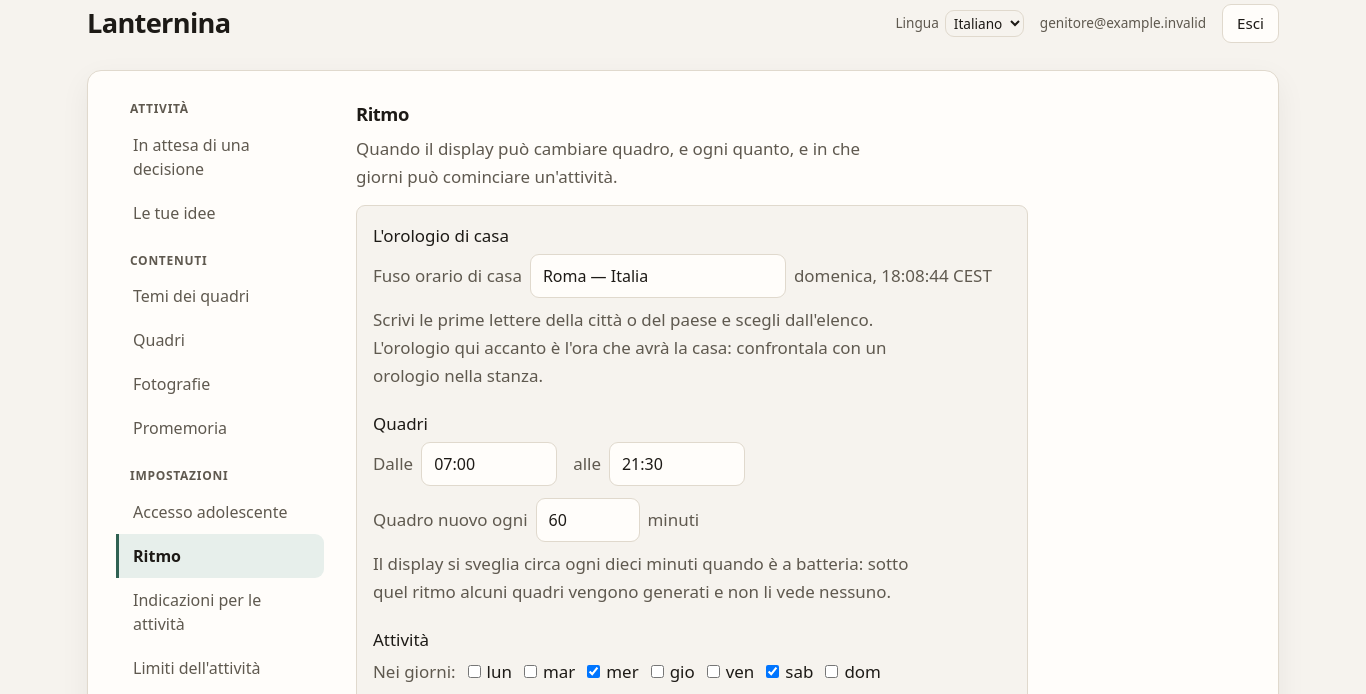
the rhythm › puts the same value back and asks the house for nothing
Click the button "Ritmo" at {"x": 220, "y": 556}, box [116,534,324,578]
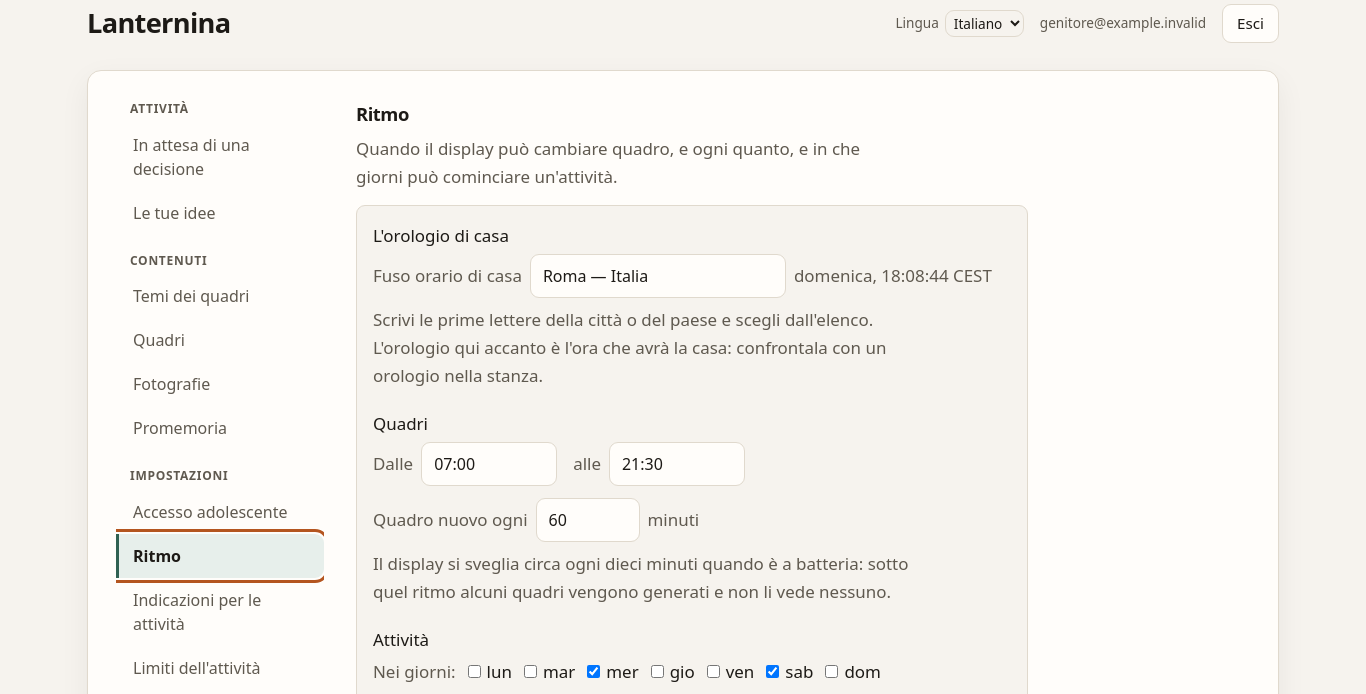
Replace the text in the number field labelled "Quadro nuovo ogni" with "90" at {"x": 588, "y": 520}, box [536,498,640,542]
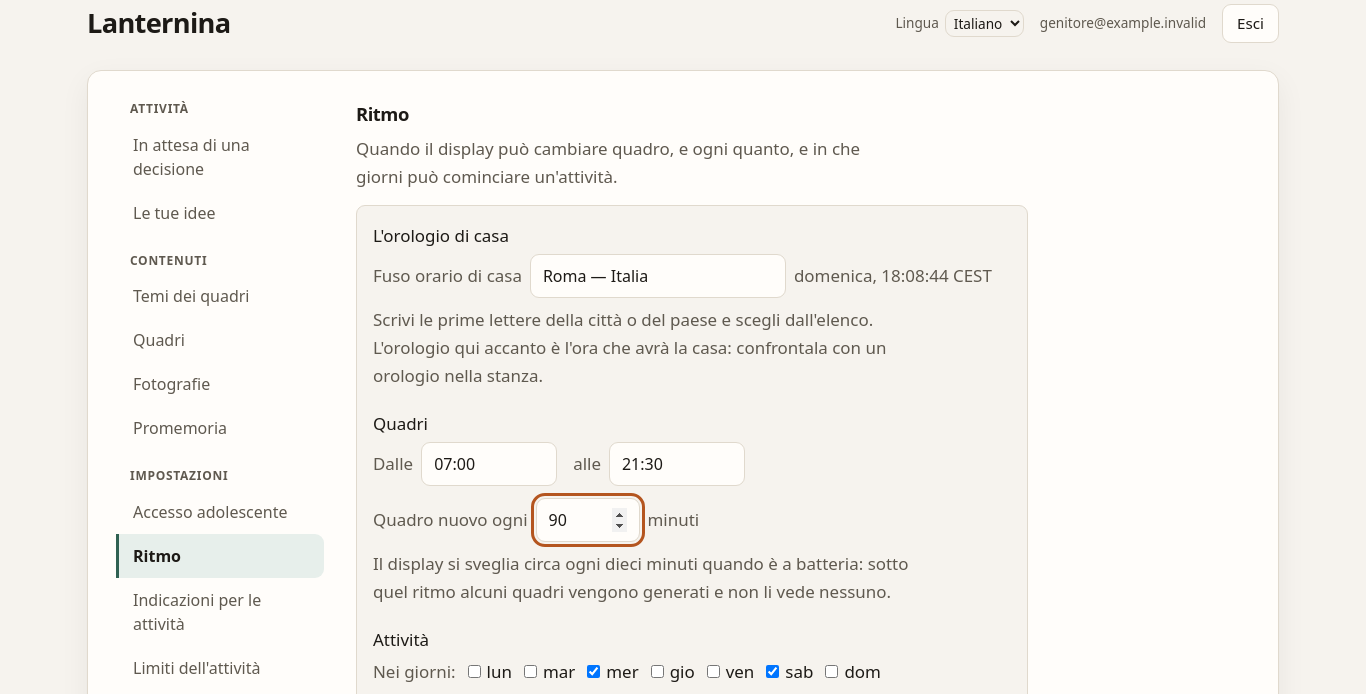
Replace the text in the number field labelled "Quadro nuovo ogni" with "60" at {"x": 588, "y": 520}, box [536,498,640,542]
(page scrolled)
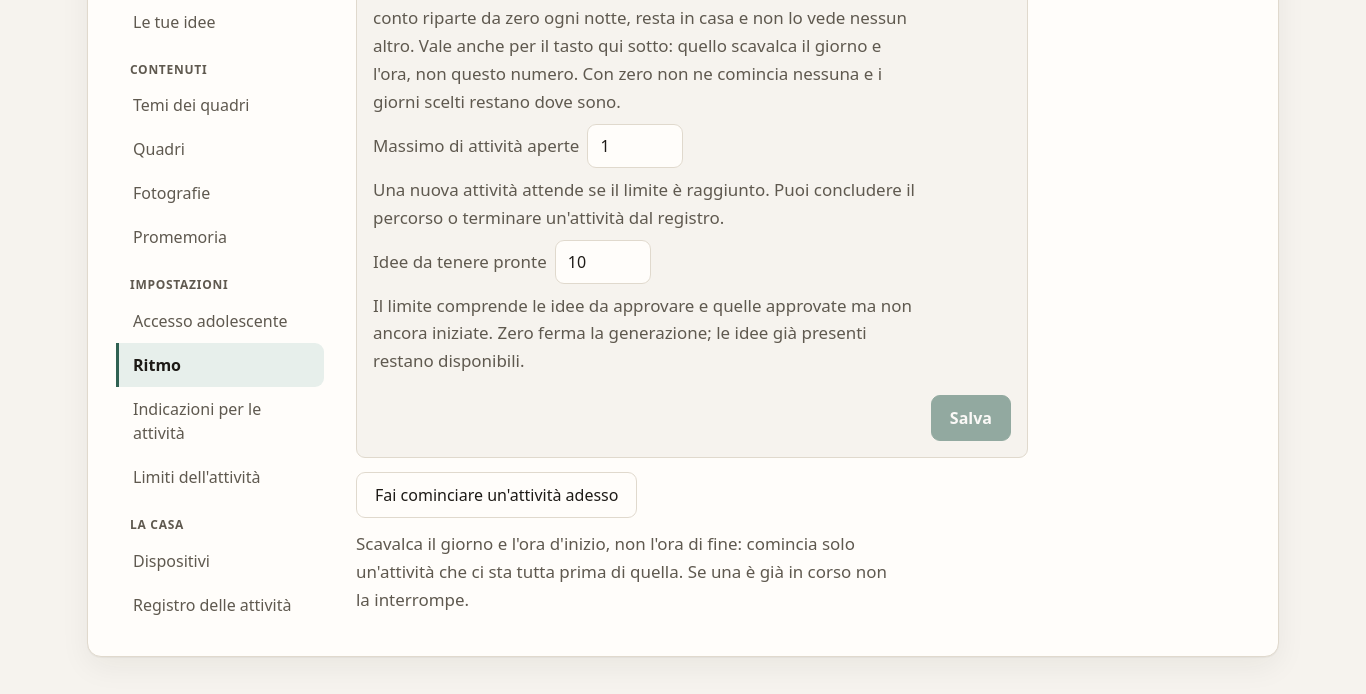
expect the button "Salva" is disabled: met, box [931,395,1011,441]
